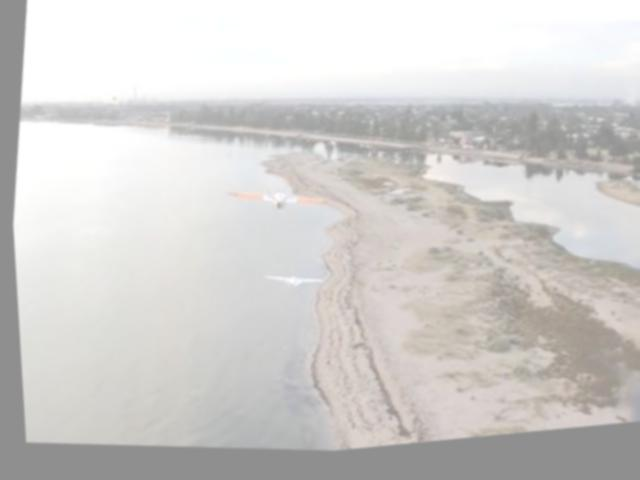uav: (222, 183, 330, 227), (255, 271, 326, 305)
